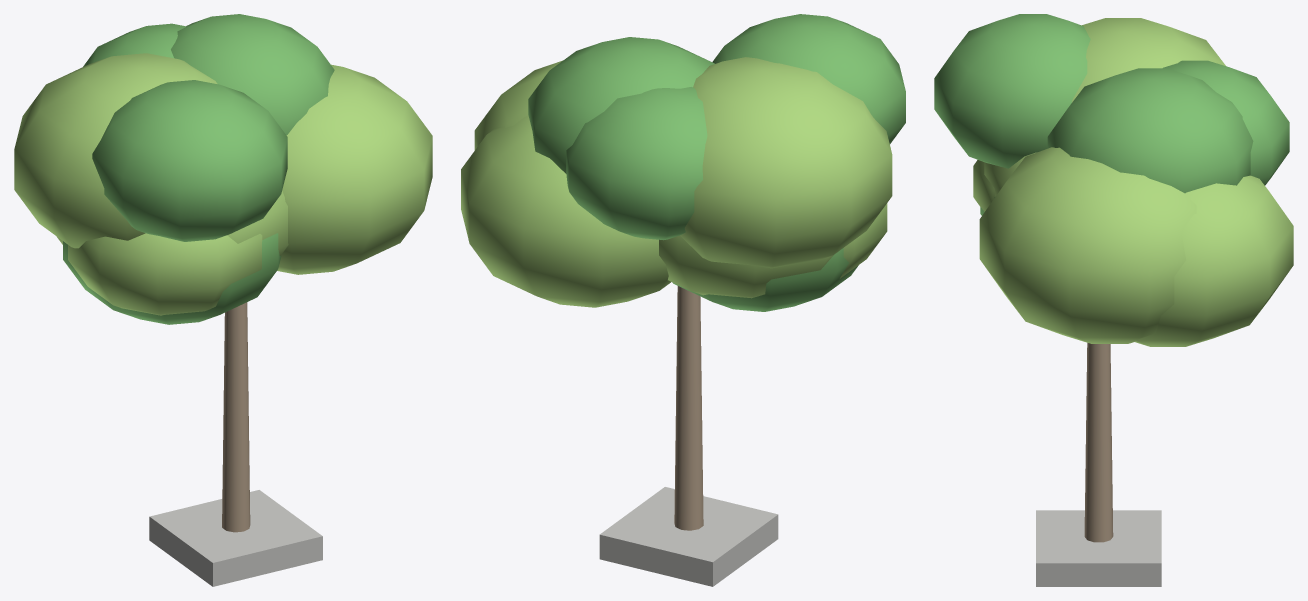
File: SM_StreetTree.fbx
3 renders of one model, left to right at view 1: azimuth 30°, elevation 25°; view 2: azimuth 150°, elevation 25°; view 3: azimuth 270°, elevation 25°, orthographic. The views are drawn at different scales.
Parts seen in each view (by area): view 1: SM_StreetTree; view 2: SM_StreetTree; view 3: SM_StreetTree.
Part boxes in pixels (x1,y1,x2,y2): SM_StreetTree: [14, 14, 432, 586]; SM_StreetTree: [461, 14, 905, 586]; SM_StreetTree: [934, 14, 1293, 586].
Bounding box in the file's own units: 4.06 × 5.24 × 3.43.
